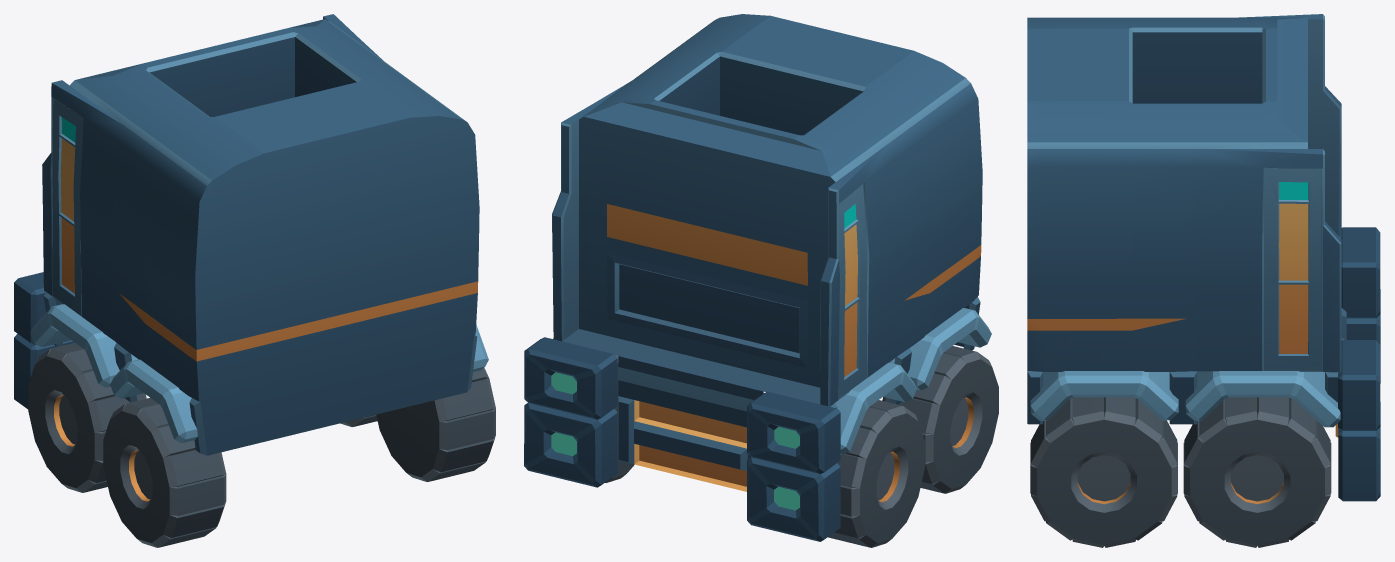
Rendered from Back_Truck (2).fbx.
The picture shows the model from 3 angles, left to right: view 1: azimuth 30°, elevation 25°; view 2: azimuth 150°, elevation 25°; view 3: azimuth 270°, elevation 25°; orthographic projection. The views are drawn at different scales.
Visible parts, largest first — view 1: Cap_Back_Truck, Back_Truck, Wheel_R1_Back_Truck, Wheel_R2_Back_Truck, Wheel_L1_Back_Truck; view 2: Back_Truck, Wheel_R2_Back_Truck, Wheel_R1_Back_Truck; view 3: Back_Truck, Wheel_L2_Back_Truck, Wheel_L1_Back_Truck.
Boxes of the visible parts, left/top/right/bottom form: Cap_Back_Truck: left=195, top=116, right=479, bottom=455; Back_Truck: left=14, top=14, right=488, bottom=455; Wheel_R1_Back_Truck: left=103, top=398, right=226, bottom=547; Wheel_R2_Back_Truck: left=28, top=343, right=146, bottom=492; Wheel_L1_Back_Truck: left=376, top=368, right=495, bottom=481; Back_Truck: left=524, top=14, right=991, bottom=541; Wheel_R2_Back_Truck: left=828, top=400, right=924, bottom=547; Wheel_R1_Back_Truck: left=882, top=346, right=998, bottom=493; Back_Truck: left=1027, top=14, right=1380, bottom=501; Wheel_L2_Back_Truck: left=1183, top=397, right=1331, bottom=547; Wheel_L1_Back_Truck: left=1030, top=397, right=1177, bottom=547.
Size of the model in its own units: 234 by 271 by 215.
Materials: 2 (2 with a texture image).
